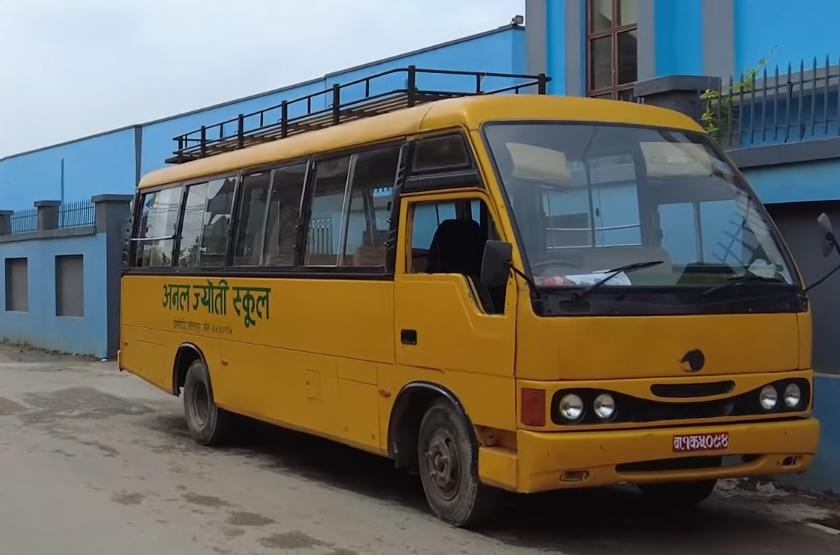school_bus: (114, 65, 828, 540)
